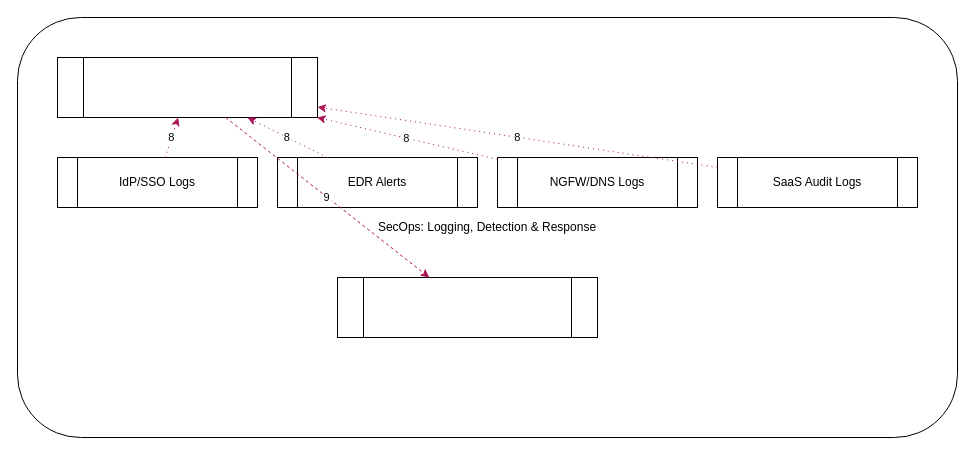
The diagram is 975 pixels wide and 455 high, and some of its shapes have lost their labels. Each missing label, with the centre of its shape:
On‑call / IR Runbooks: pixel 467 307
SIEM / MDR: pixel 187 87
